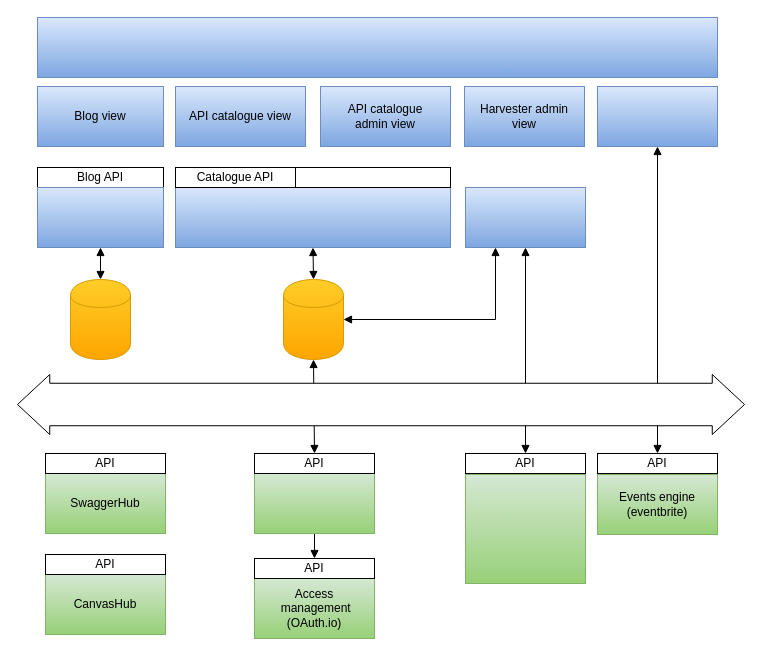
Some shapes in this 762 by 656 pixel diagram are drawn without their labels. The shapes that lost their labels are listed below. From the top down, each one's box as (x1, y1, x2, y2) in pixels, then its label:
(36, 16, 718, 78): API:Suomi Web portal (Meteor)
(596, 86, 718, 146): Events view
(294, 166, 450, 188): Catalogue admin API
(36, 186, 164, 248): Blog engine (ghost)
(174, 186, 450, 248): API catalogue
(464, 186, 586, 248): Harvester (?)
(254, 472, 374, 534): API management (apinf.io)
(464, 474, 586, 584): X-Road catalogue, API -managements
